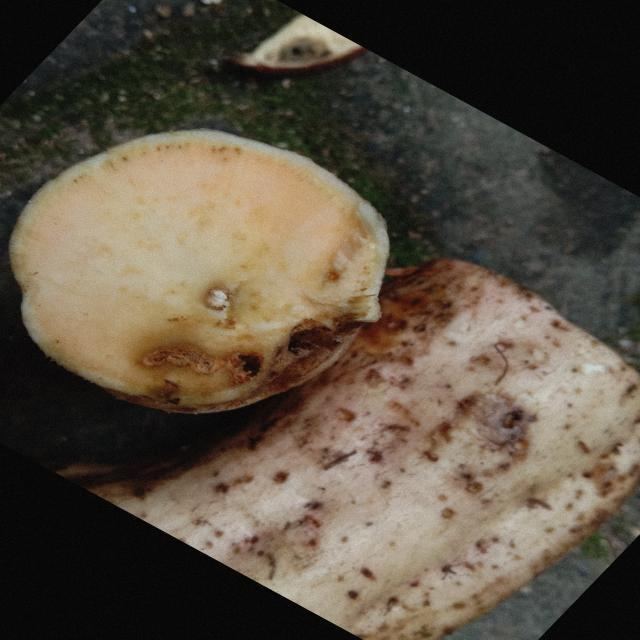Sick Sweet Potato_Tuber Rot: (10, 130, 388, 412)
